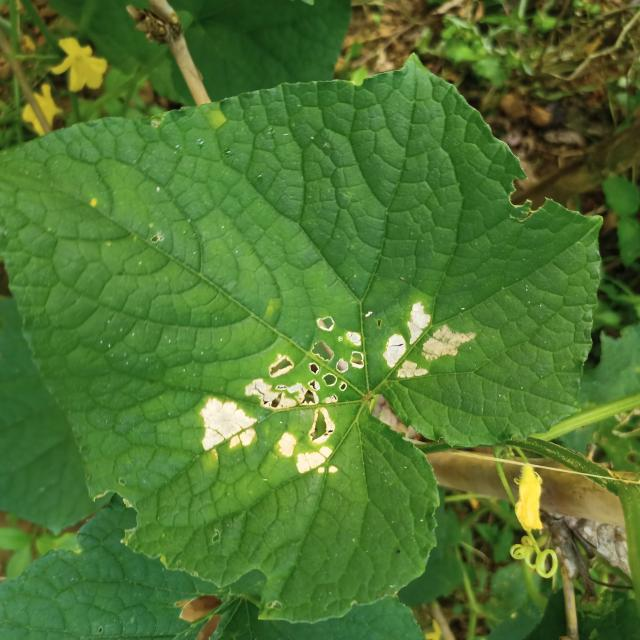disease_cucumber: (196, 304, 367, 494), (374, 290, 476, 392)
